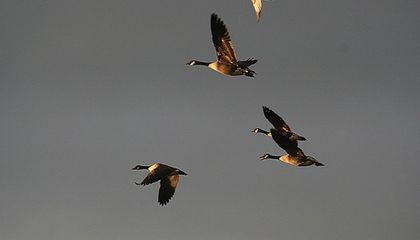goose: (184, 11, 262, 80), (129, 158, 188, 208), (258, 128, 327, 170), (250, 104, 310, 142)
